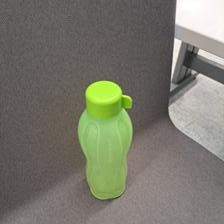bottle: (76, 78, 133, 202)
